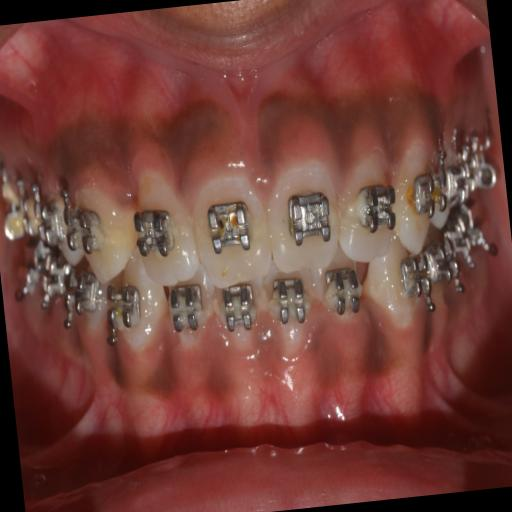correct_brace: (200, 190, 259, 262), (126, 202, 184, 268), (348, 175, 402, 241), (282, 186, 336, 251)
incorrect_brace: (327, 138, 406, 268), (125, 171, 202, 293)
